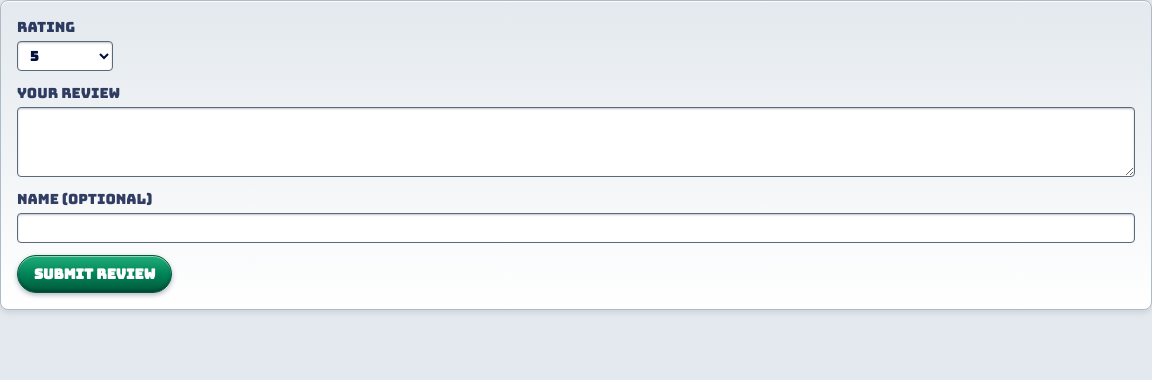
Test case: ReviewForm › shows an inline error when submission fails
Type "Loved it" into the text box labelled "Your review" at (576, 142), box [17, 107, 1135, 177]
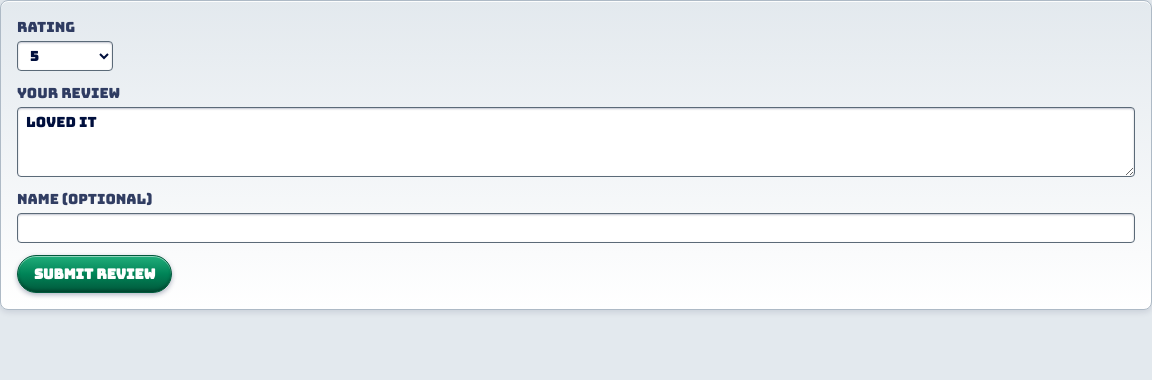
Click the button "Submit review" at (95, 274), box [17, 255, 172, 293]
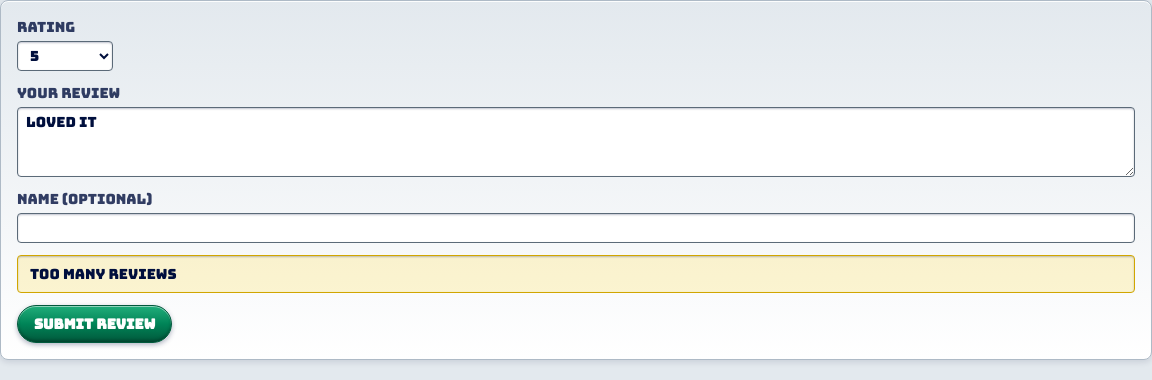
expect the text "Too many reviews" is shown: met, box [17, 255, 1135, 293]
